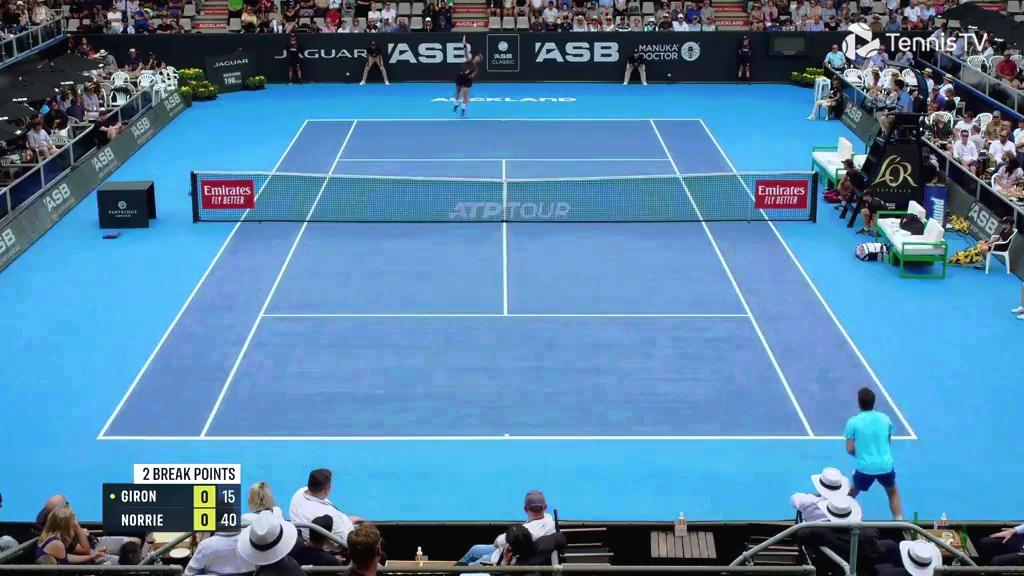tennis-court: (97, 118, 917, 439)
